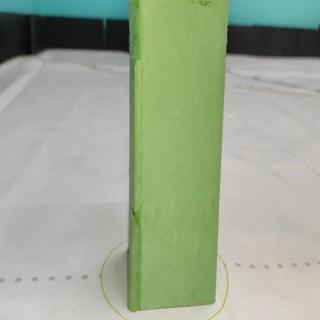greenbox: (127, 0, 229, 312)
